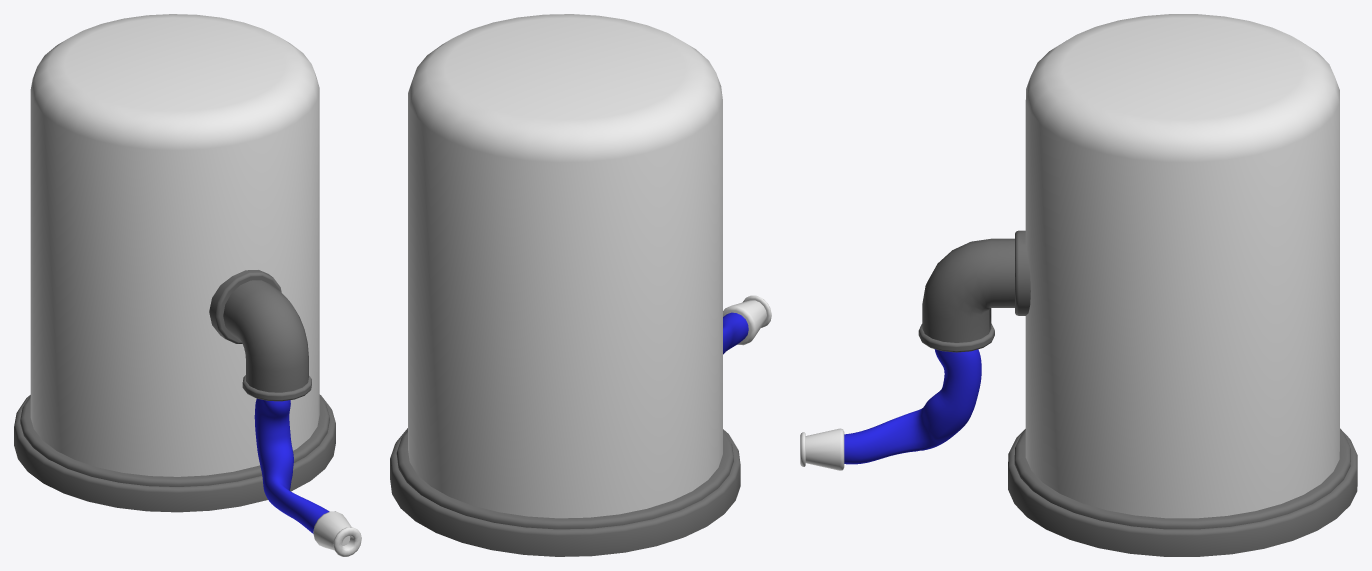
File: LiquidTank.fbx
The picture shows the model from 3 angles, left to right: view 1: azimuth 30°, elevation 25°; view 2: azimuth 150°, elevation 25°; view 3: azimuth 270°, elevation 25°; orthographic projection. The views are drawn at different scales.
Parts seen in each view (by area): view 1: glass, hose; view 2: glass, hose; view 3: glass, hose.
Boxes of the visible parts, x1,y1,x2,y2 form: glass: (14,14,335,512); hose: (209,270,361,556); glass: (390,14,740,556); hose: (723,295,771,354); glass: (1008,14,1357,556); hose: (800,230,1030,470).
Bounding box in the file's own units: 1.57 × 2.05 × 2.5.
